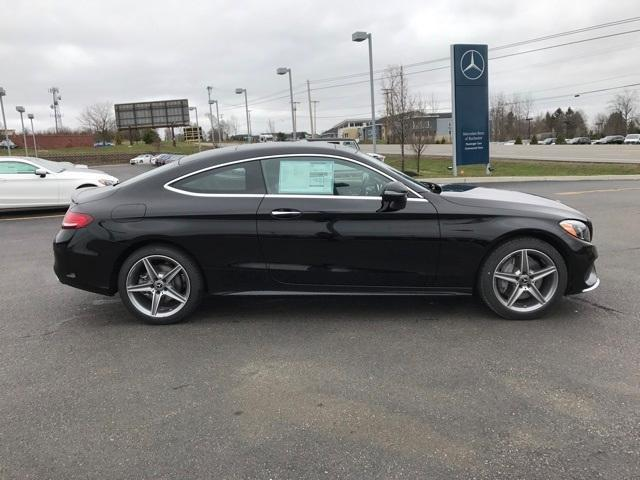C300Coupe: (51, 130, 603, 327)
